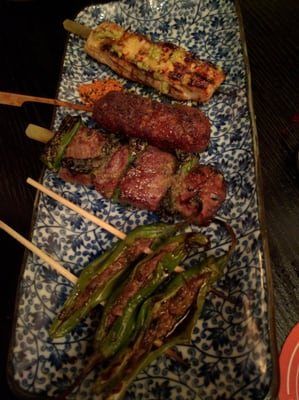curry: (1, 0, 298, 395)
